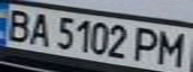0: (87, 19, 112, 56)
1: (69, 17, 93, 53)
2: (106, 21, 133, 61)
5: (51, 15, 75, 51)
A: (24, 10, 54, 47)
B: (0, 7, 36, 43)
M: (154, 28, 190, 67)
P: (130, 25, 163, 64)
